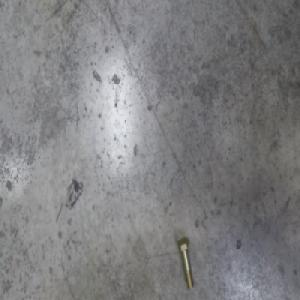Bolt: (176, 235, 194, 288)
